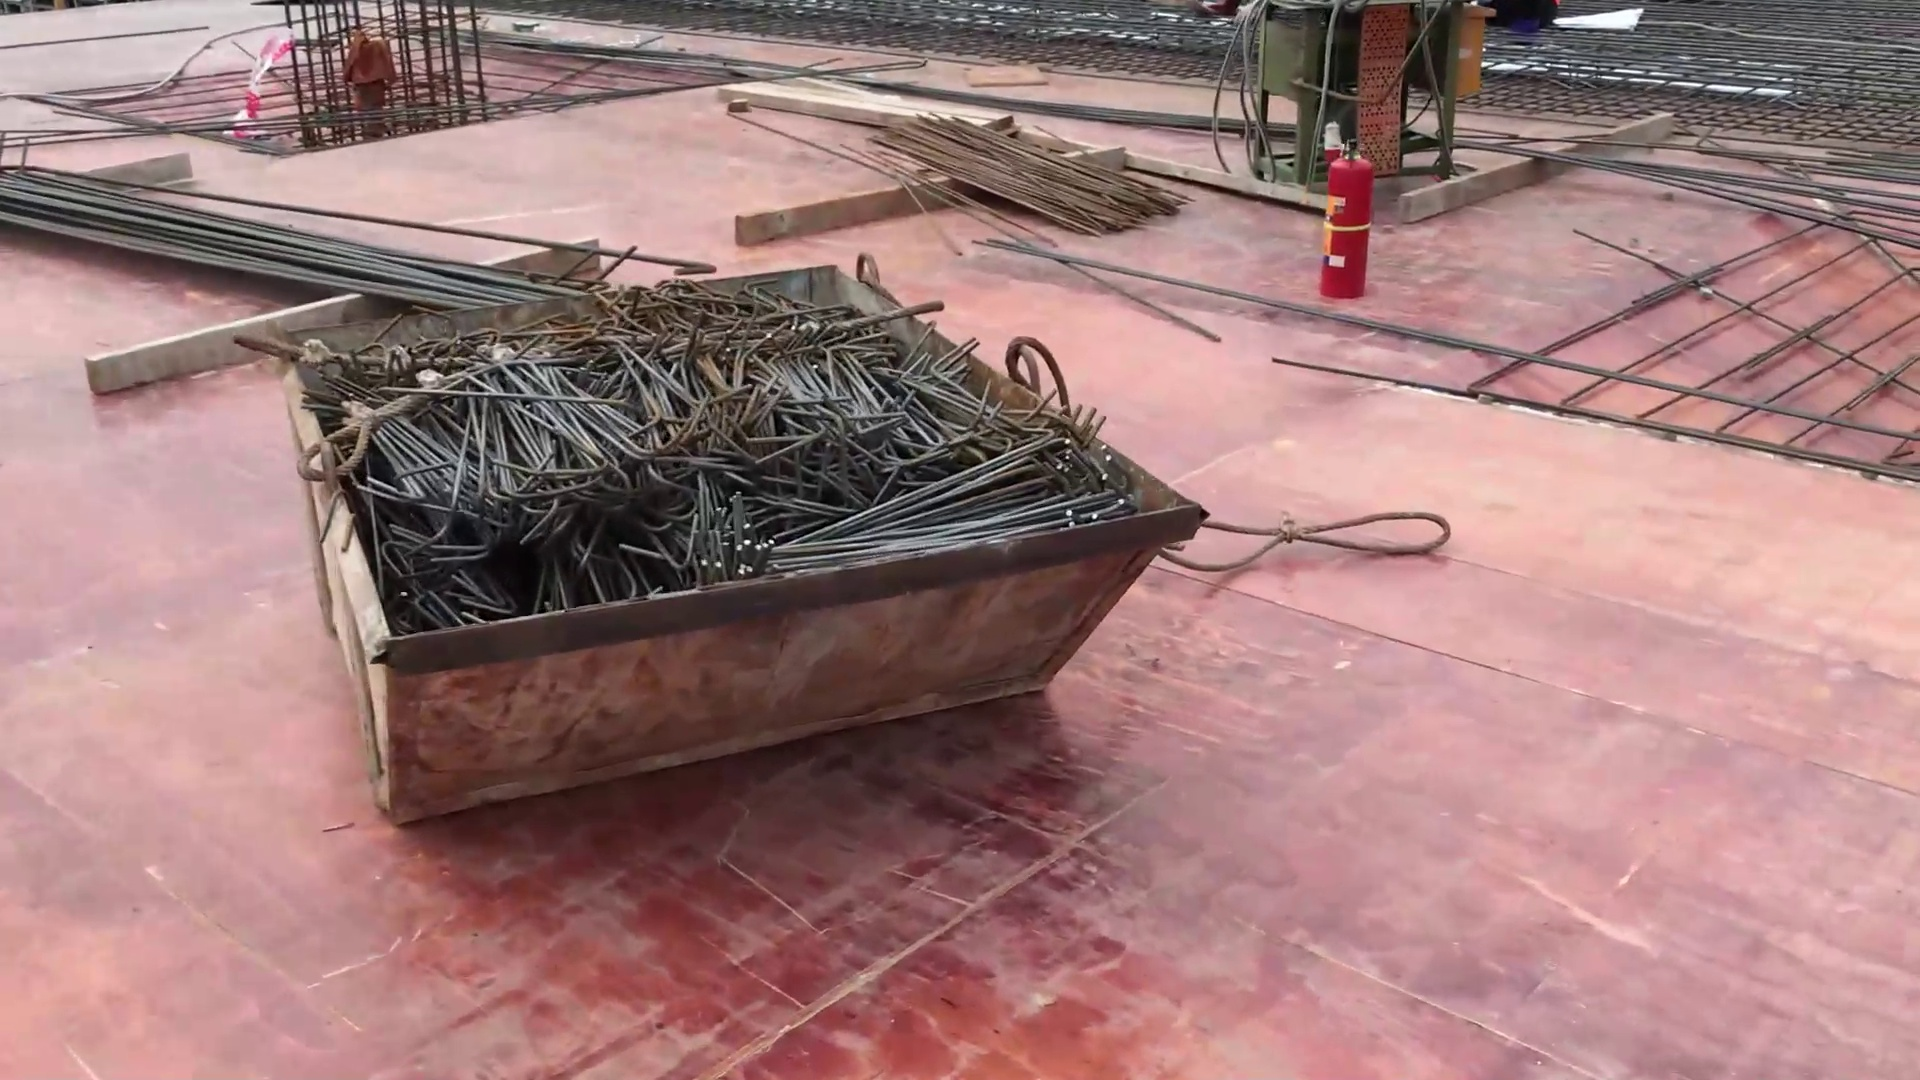hopper: (245, 227, 1244, 905)
rebar: (11, 142, 543, 301), (861, 98, 1193, 266)
